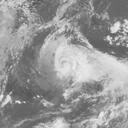cyclone: (48, 39, 103, 85)
